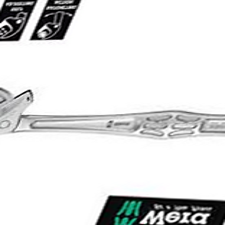Wrench: (1, 82, 225, 155)
